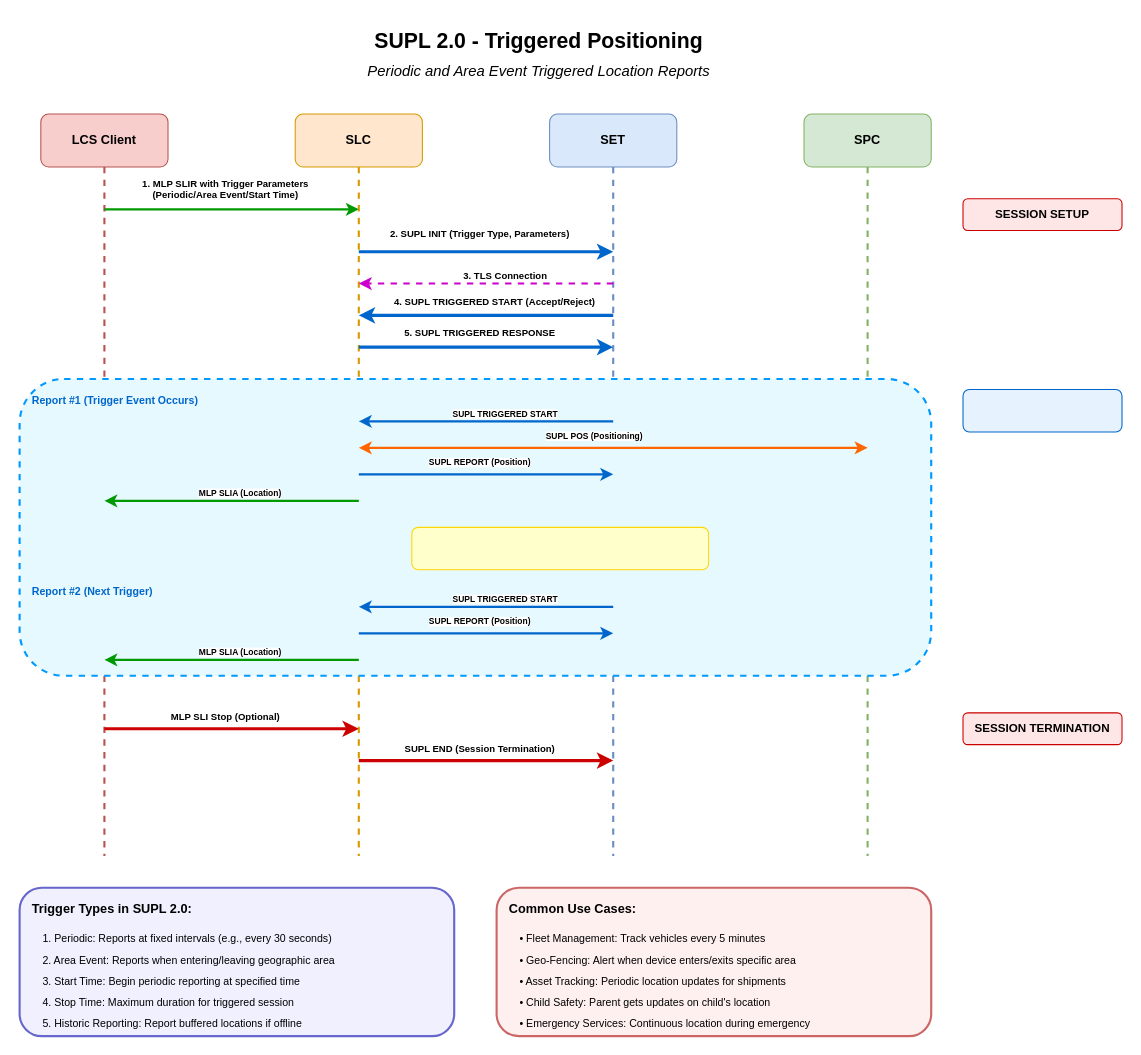
The diagram is 1141 pixels wide and 1055 high, and some of its shapes have lost their labels. Here are the shapes that lost their labels. From the top down, the centre of each, then its label:
At point 1042,410: "TRIGGERED LOCATION REPORTS (Multiple instances)".
At point 560,548: "⏱ Wait for Next Trigger Event ⏱ (e.g., periodic interval, area entry/exit)".
